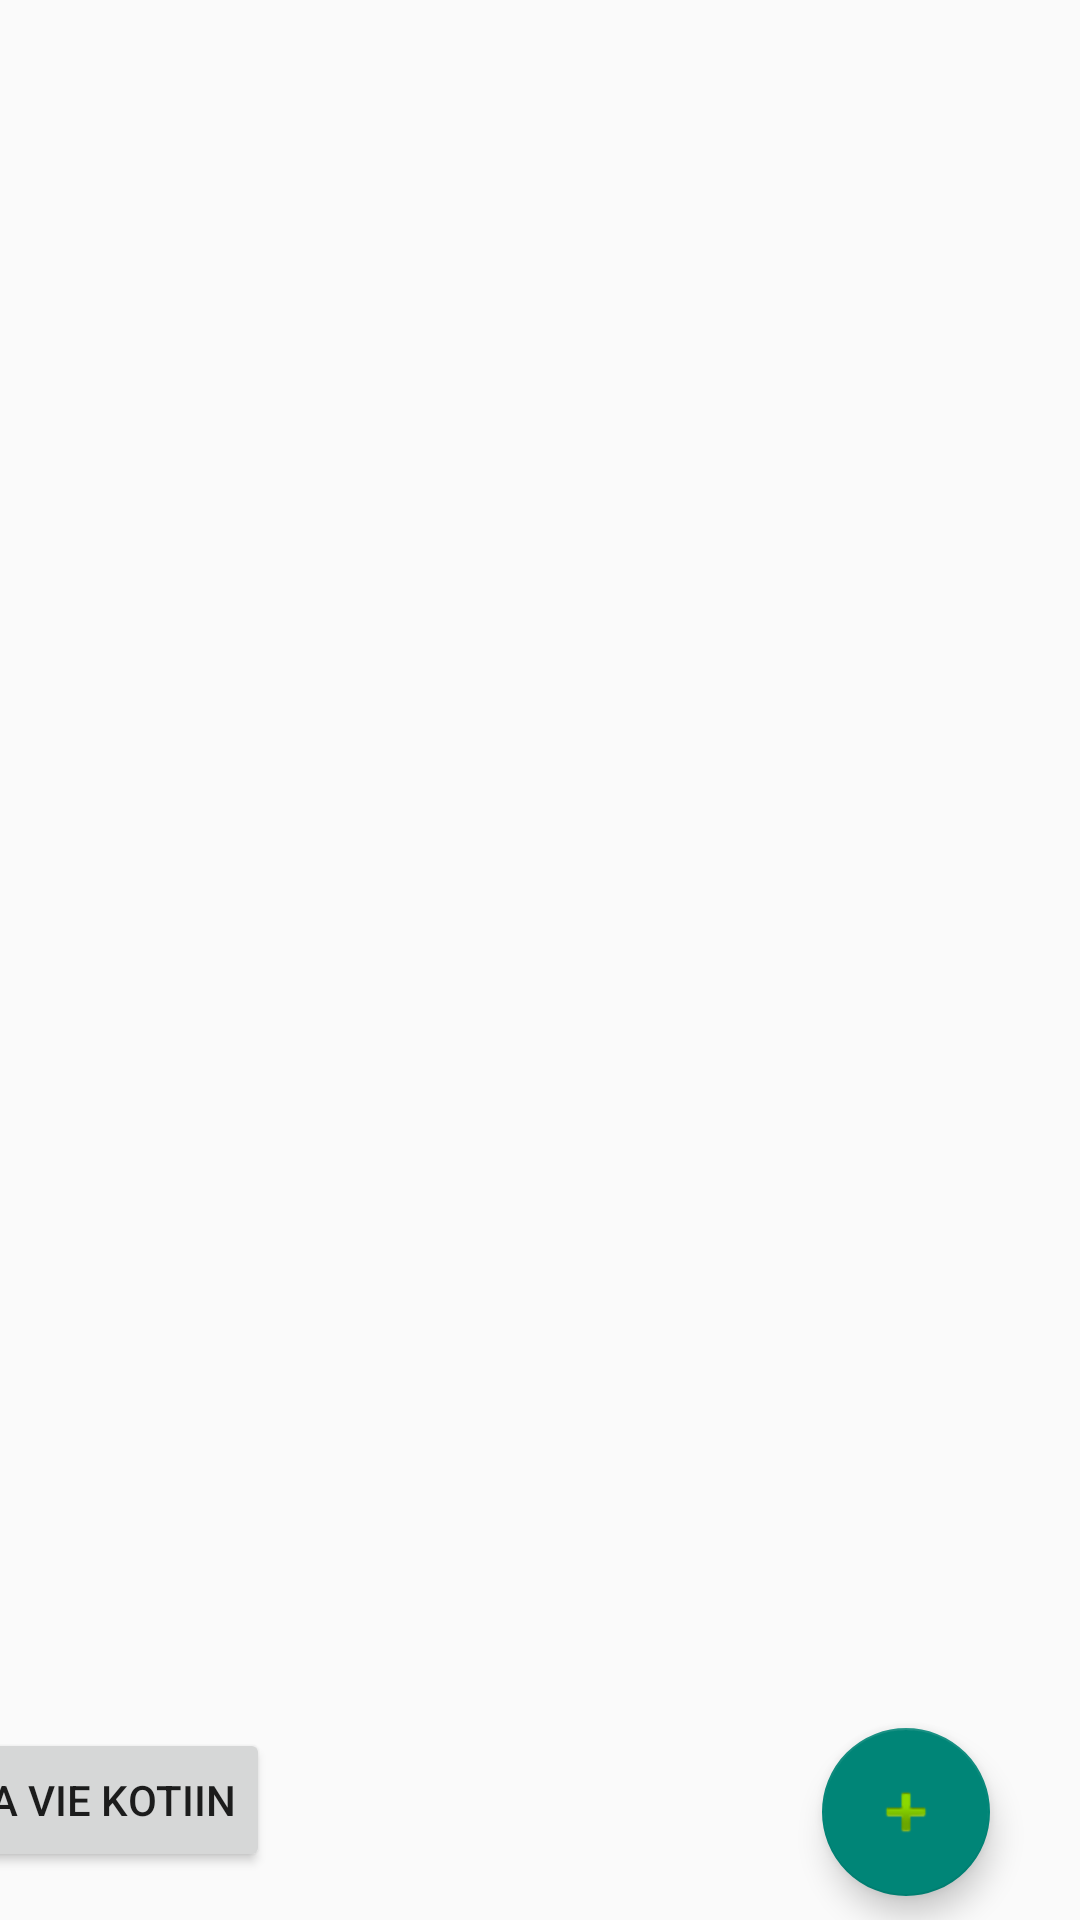

Named icons in this screenshot (1080*1920) and their centers, [x,y]:
Nappi, joka vie lisäys sivulle: [906,1812]
